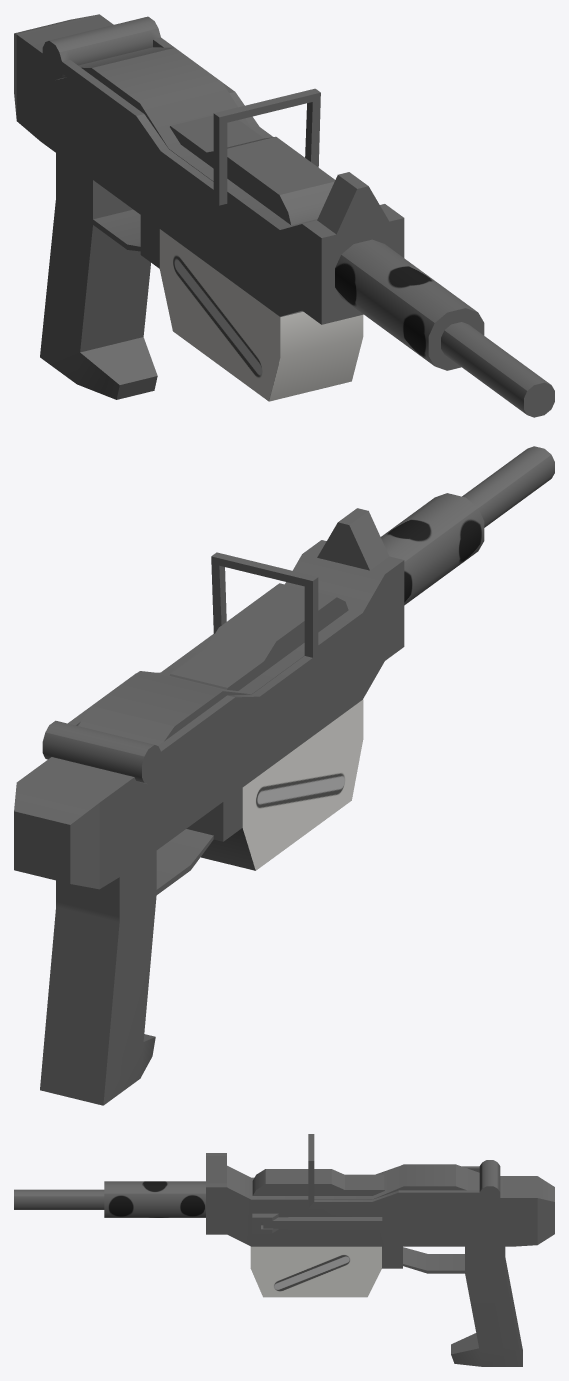
The model's file is 100mmMachingun02.fbx.
The picture shows the model from 3 angles, top to bottom: view 1: azimuth 30°, elevation 25°; view 2: azimuth 150°, elevation 25°; view 3: azimuth 270°, elevation 25°; orthographic projection. The views are drawn at different scales.
Visible parts, largest first — view 1: pCube7, pCube8; view 2: pCube7, pCube8; view 3: pCube7, pCube8.
Boxes of the visible parts, x1,y1,x2,y2 form: pCube7: (14, 14, 554, 417); pCube8: (170, 115, 335, 225); pCube7: (14, 446, 554, 1105); pCube8: (169, 583, 348, 690); pCube7: (14, 1134, 554, 1366); pCube8: (252, 1169, 384, 1195).
Size of the model in its own units: 24.42 by 84.74 by 197.
2 materials, 2 textured.
